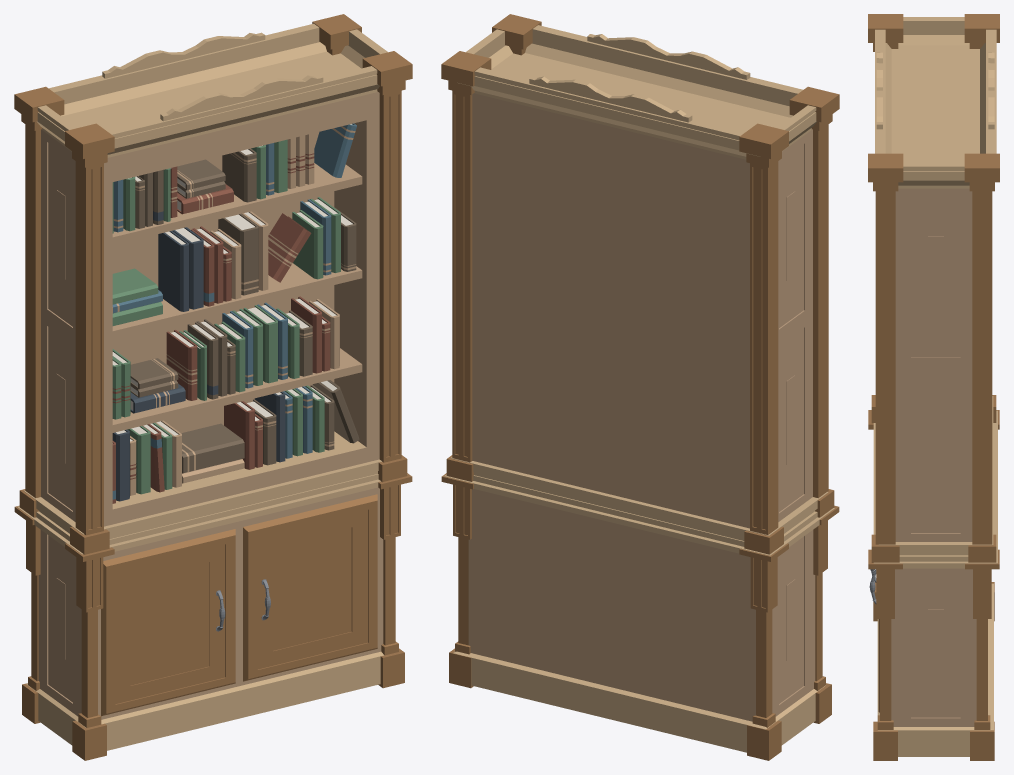
File: BookcaseWithBooks.glb
The picture shows the model from 3 angles, left to right: view 1: azimuth 30°, elevation 25°; view 2: azimuth 150°, elevation 25°; view 3: azimuth 270°, elevation 25°; orthographic projection. The views are drawn at different scales.
Parts seen in each view (by area): view 1: BookCase_Single, BookCase_RightDoor, BookCase_LeftDoor; view 2: BookCase_Single; view 3: BookCase_Single, BookCase_RightDoor.
Part boxes in pixels (<box>): BookCase_Single: <box>14,14,412,760</box>; BookCase_RightDoor: <box>243,494,377,681</box>; BookCase_LeftDoor: <box>101,529,235,716</box>; BookCase_Single: <box>441,14,839,760</box>; BookCase_Single: <box>868,14,999,760</box>; BookCase_RightDoor: <box>869,569,879,712</box>.
Bounding box in the file's own units: 1.84 × 3.37 × 0.6644.
